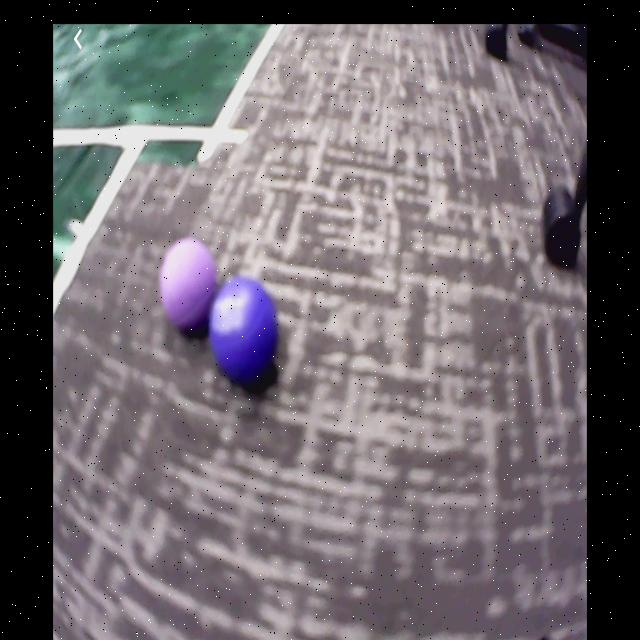ball: (211, 278, 279, 388), (162, 239, 222, 331)
